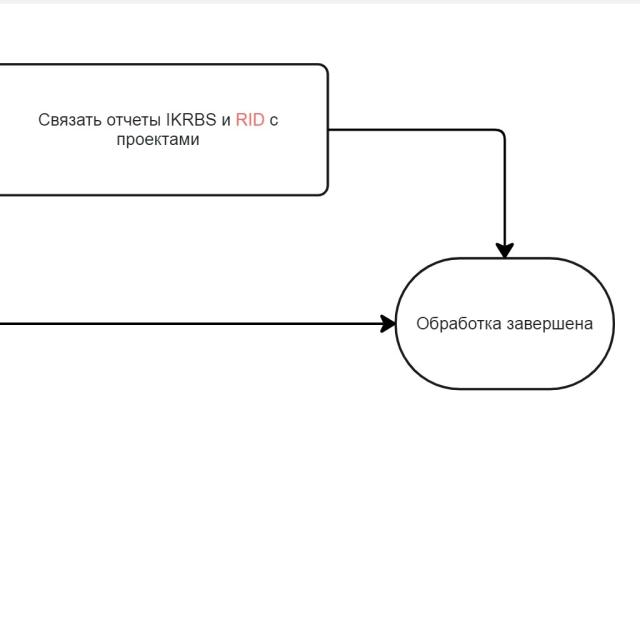arrow: (327, 124, 514, 258), (0, 312, 395, 335)
rectangle: (393, 257, 618, 394)
